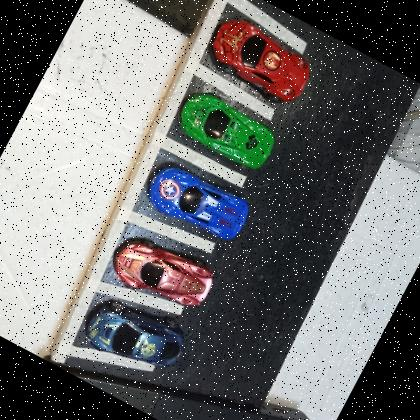Car: (196, 9, 322, 116), (76, 284, 198, 390), (102, 223, 223, 325), (138, 154, 258, 253), (167, 82, 285, 180)
